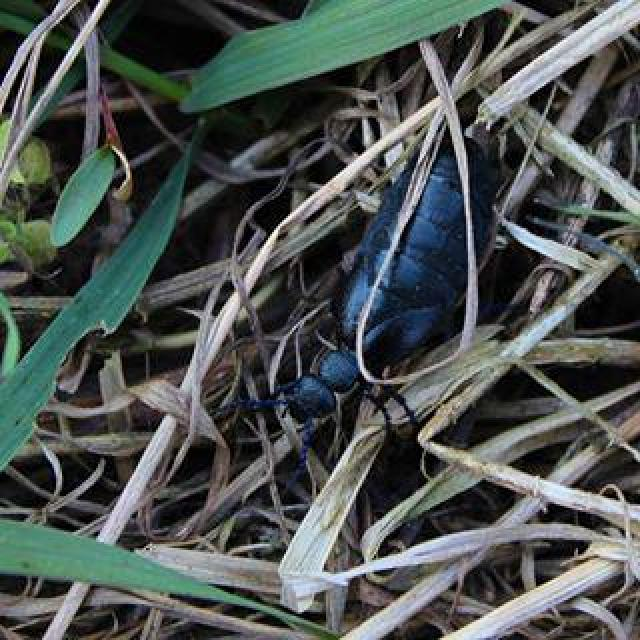BlisterBeetle-Adult-: (210, 114, 528, 471)
